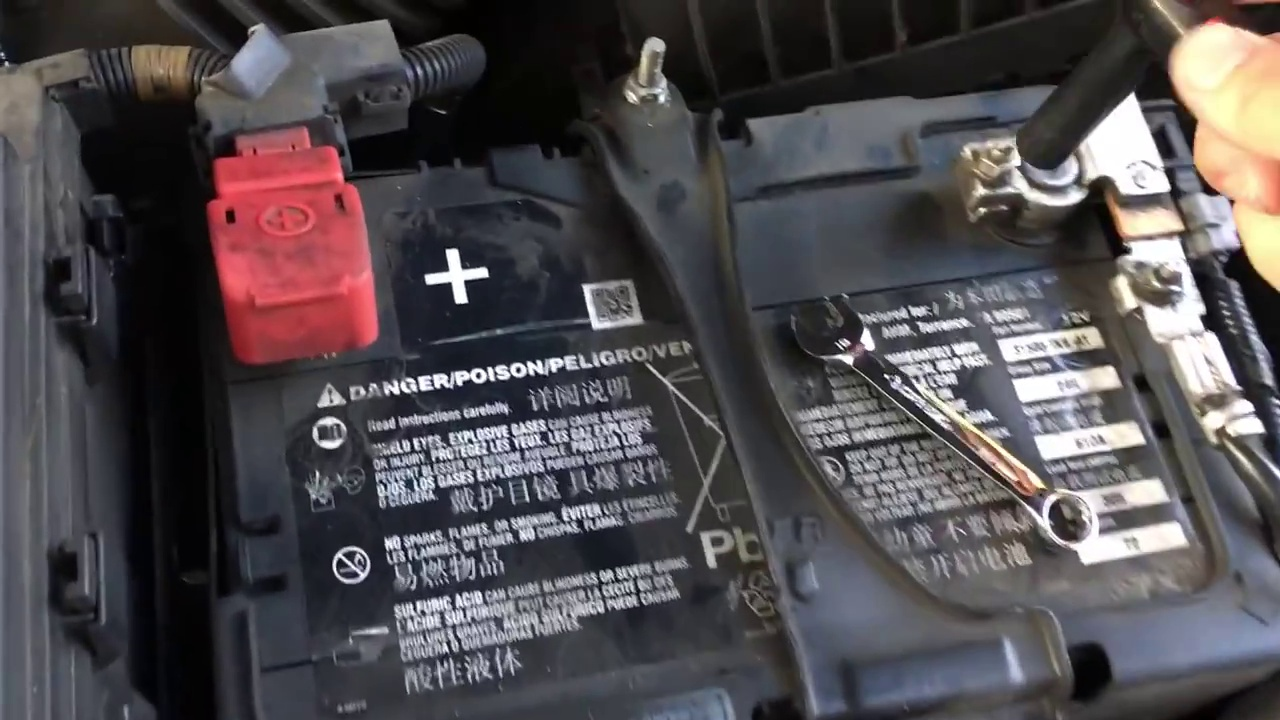battery: (160, 22, 1277, 676)
neg_disconnected: (938, 60, 1183, 254)
pos_connected: (156, 37, 454, 359)
